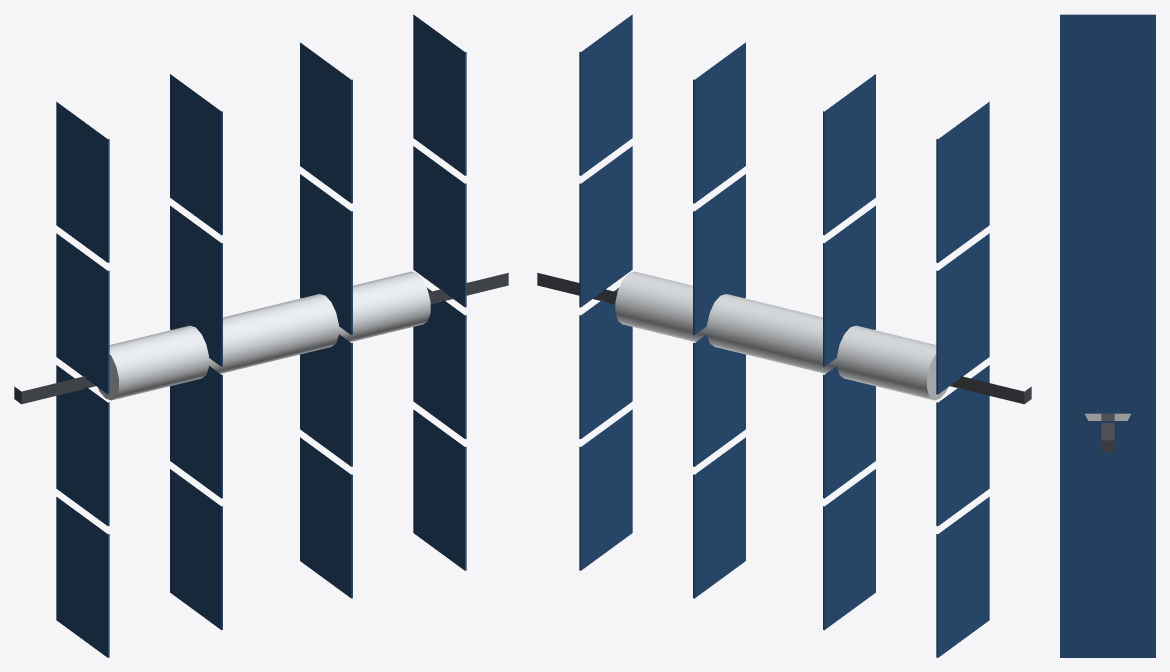
The picture shows the model from 3 angles, left to right: view 1: azimuth 30°, elevation 25°; view 2: azimuth 150°, elevation 25°; view 3: azimuth 270°, elevation 25°; orthographic projection. The views are drawn at different scales.
Bounding box in the file's own units: 30 × 30.53 × 5.5.
